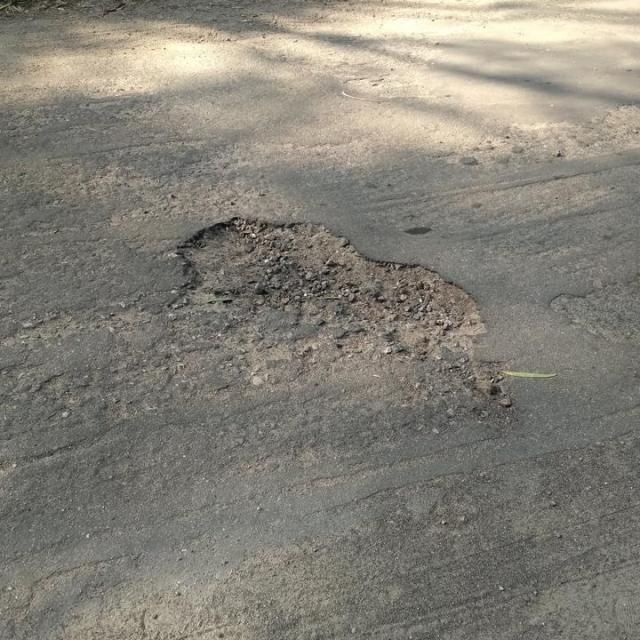Pothole: (170, 213, 493, 359)
